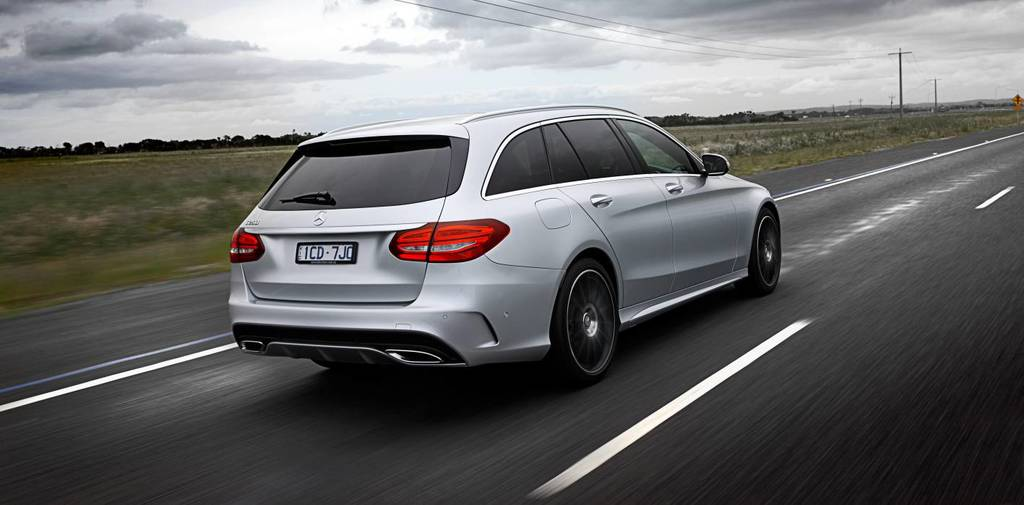Car: (229, 104, 782, 382)
